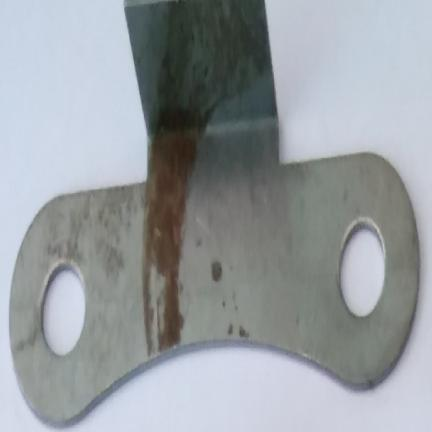besi_tidak_karat: (9, 0, 419, 423)
